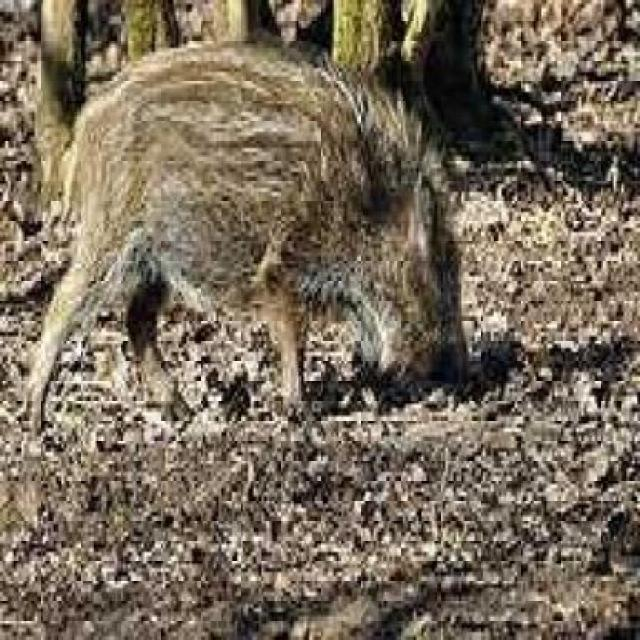pig: (39, 15, 536, 487)
